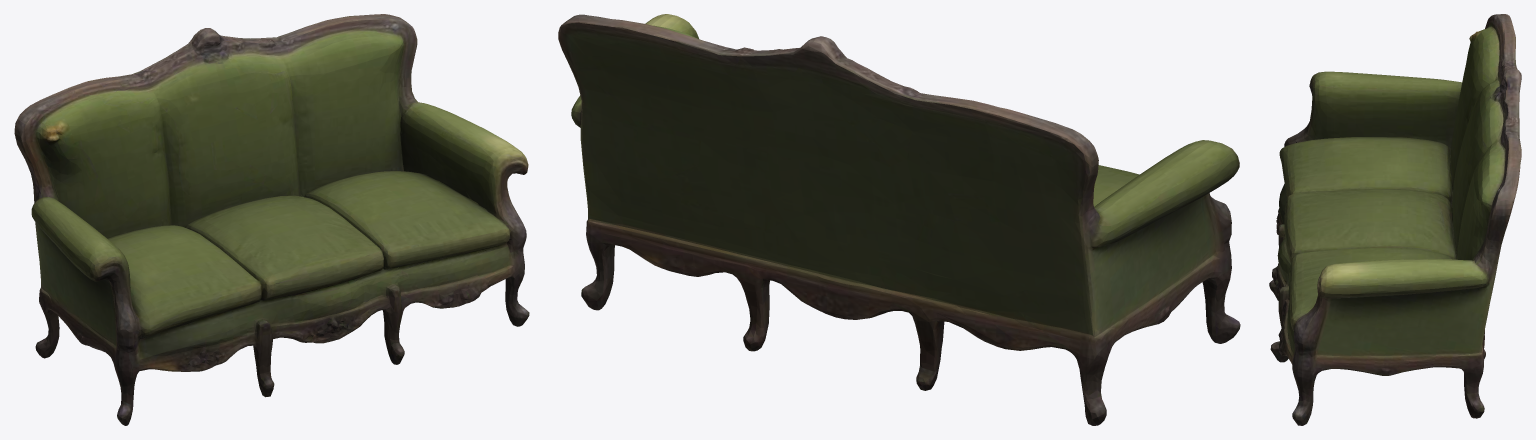
The model's file is sofa.glb.
The picture shows the model from 3 angles, left to right: view 1: azimuth 30°, elevation 25°; view 2: azimuth 150°, elevation 25°; view 3: azimuth 270°, elevation 25°; orthographic projection. The views are drawn at different scales.
Parts seen in each view (by area): view 1: geometry_0; view 2: geometry_0; view 3: geometry_0.
Boxes of the visible parts, x1,y1,x2,y2 form: geometry_0: (14,14,529,425); geometry_0: (558,14,1240,425); geometry_0: (1269,14,1521,425).
Bounding box in the file's own units: 0.9986 × 0.5761 × 0.5083.
Materials: 1 (1 with a texture image).
